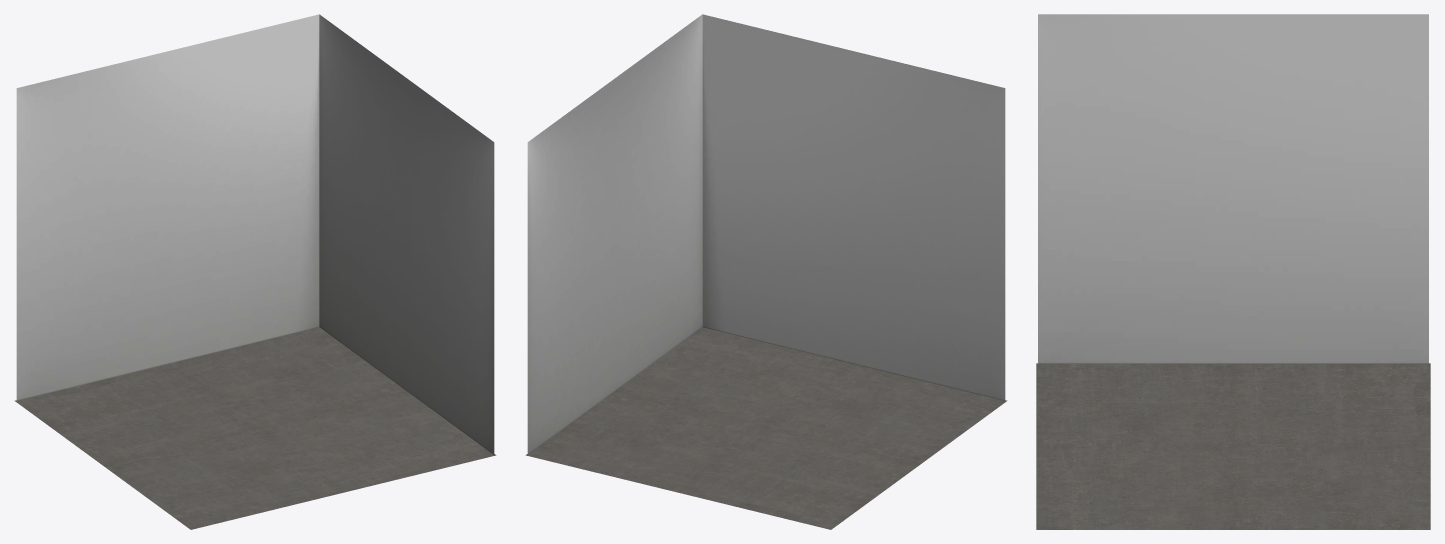
Rendered from concrete.glb.
3 views of the same model, side by side, from view 1: azimuth 30°, elevation 25°; view 2: azimuth 150°, elevation 25°; view 3: azimuth 270°, elevation 25° (orthographic). The views are drawn at different scales.
Visible parts, largest first — view 1: Cube, Floor; view 2: Cube, Floor; view 3: Cube, Floor.
Boxes of the visible parts, x1=… form: Cube: x1=16, y1=14, x2=494, y2=454; Floor: x1=14, y1=327, x2=496, y2=529; Cube: x1=527, y1=14, x2=1005, y2=454; Floor: x1=525, y1=327, x2=1007, y2=529; Cube: x1=1038, y1=14, x2=1428, y2=363; Floor: x1=1036, y1=363, x2=1430, y2=529.
Size of the model in its own units: 3.95 by 3.87 by 3.95.
3 materials, 3 textured.
